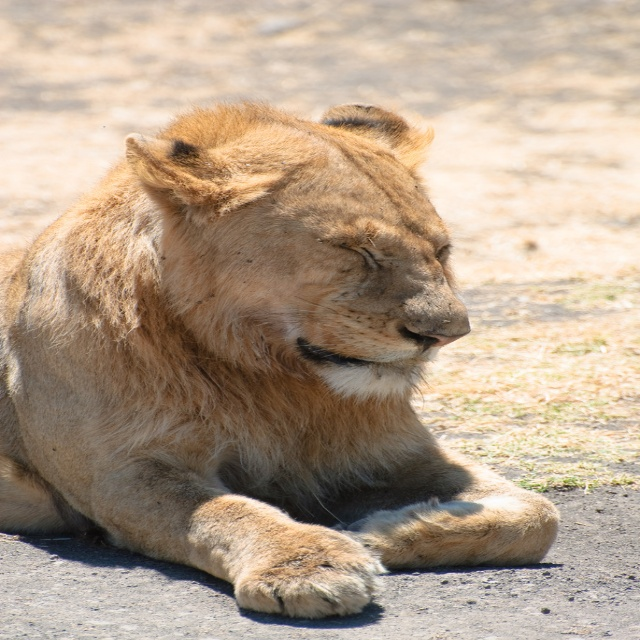Lion: (0, 100, 561, 620)
